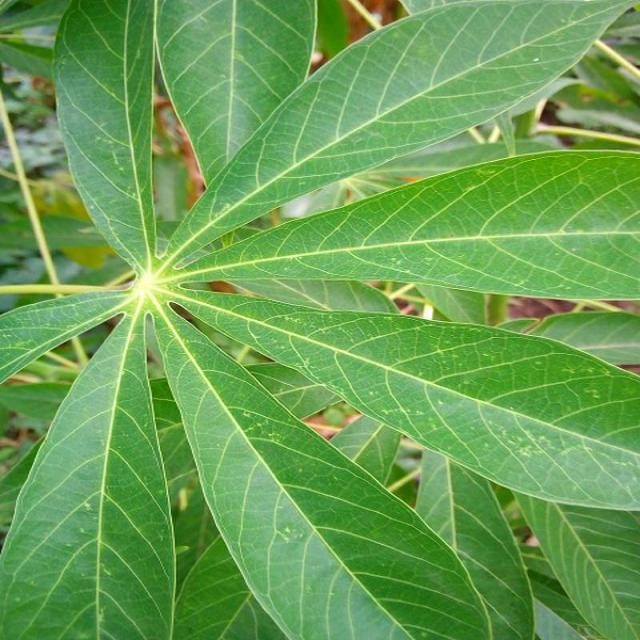cassava leaf: (0, 0, 638, 638), (158, 0, 636, 267)
